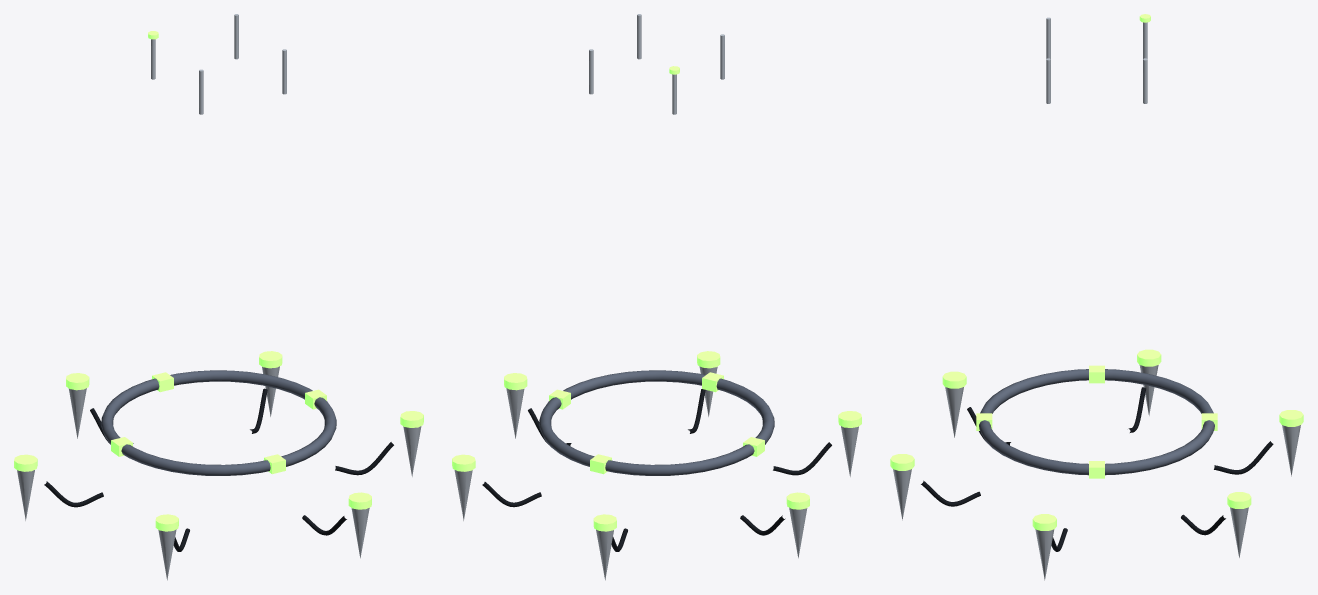
File: tower_detector_field_s4.glb
The picture shows the model from 3 angles, left to right: view 1: azimuth 30°, elevation 25°; view 2: azimuth 150°, elevation 25°; view 3: azimuth 270°, elevation 25°; orthographic projection.
Parts seen in each view (by area): view 1: detector_base_ring; view 2: detector_base_ring; view 3: detector_base_ring.
Part boxes in pixels (left/top/right/bottom): detector_base_ring: left=101, top=370, right=336, bottom=475; detector_base_ring: left=539, top=370, right=774, bottom=475; detector_base_ring: left=979, top=369, right=1214, bottom=475.
Size of the model in its own units: 2.05 by 2.53 by 2.05.
